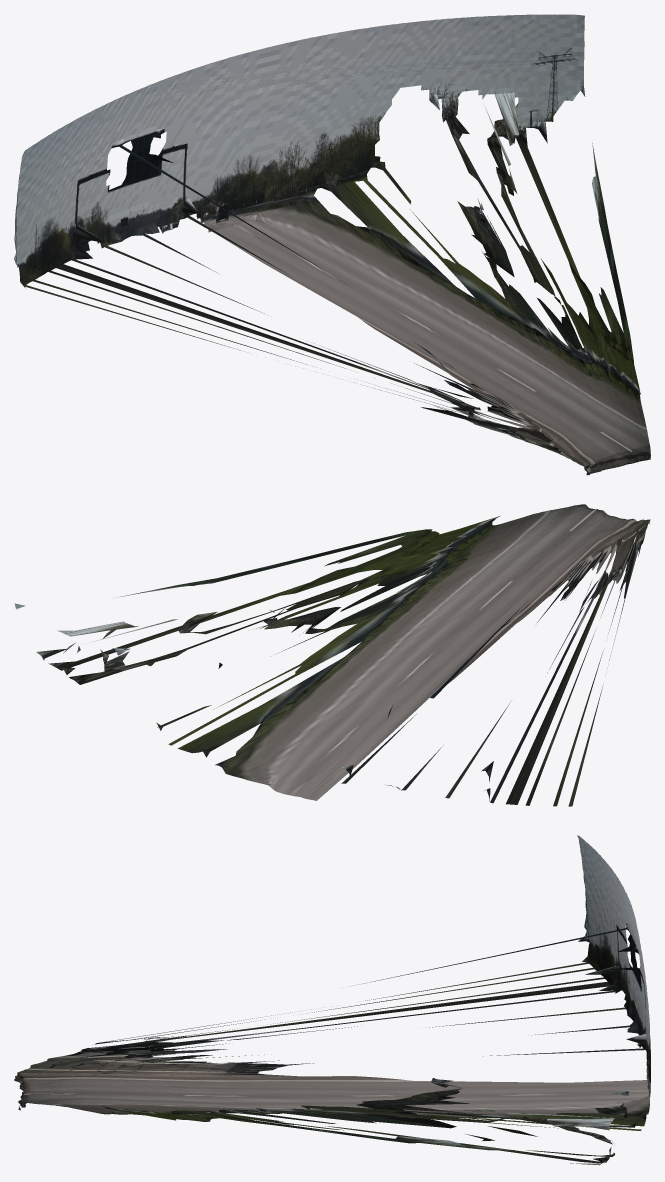
The picture shows the model from 3 angles, top to bottom: view 1: azimuth 30°, elevation 25°; view 2: azimuth 150°, elevation 25°; view 3: azimuth 270°, elevation 25°; orthographic projection. The views are drawn at different scales.
Parts seen in each view (by area): view 1: defaultobject; view 2: defaultobject; view 3: defaultobject.
Boxes of the visible parts, bbox=[...] form: defaultobject: bbox=[14, 14, 650, 475]; defaultobject: bbox=[15, 504, 650, 806]; defaultobject: bbox=[14, 835, 650, 1165].
Bounding box in the file's own units: 41.08 × 12.09 × 44.64.
Materials: 1 (1 with a texture image).
